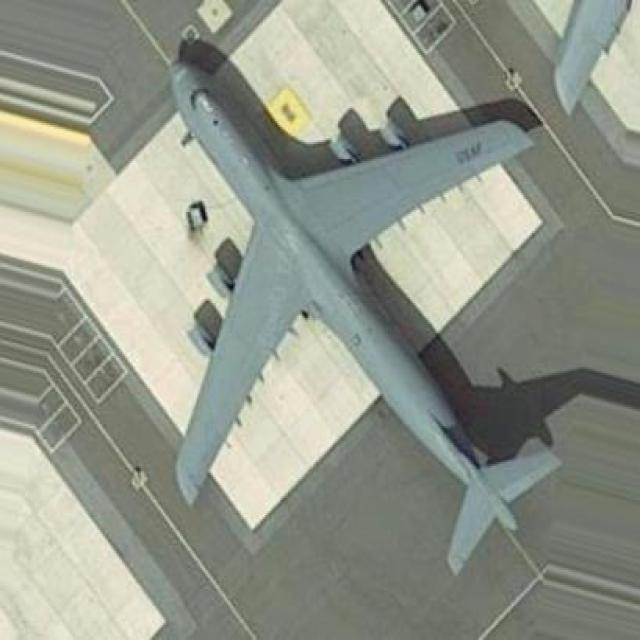C-5_TopDown: (167, 39, 604, 579)
